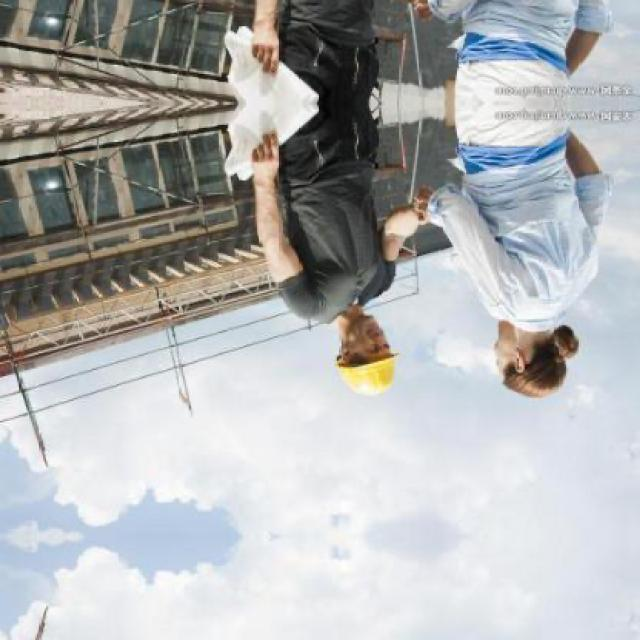con casco: (304, 292, 401, 402)
sin casco: (492, 302, 591, 410)
